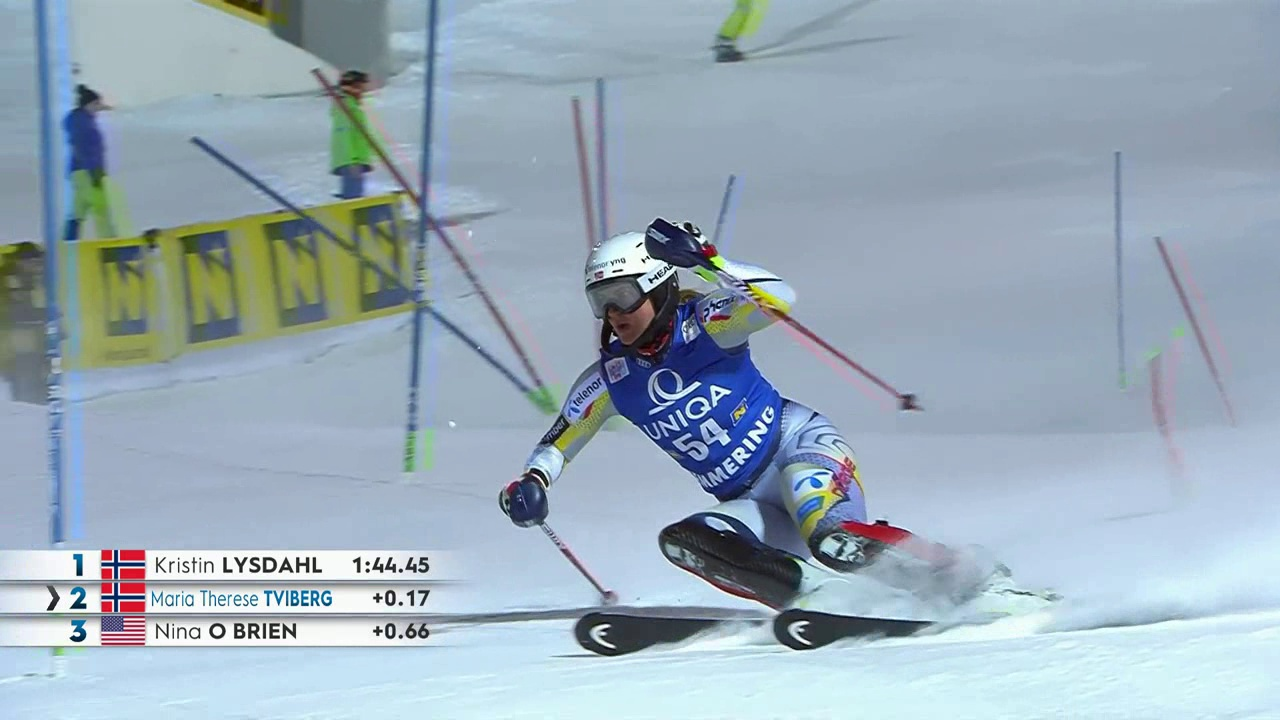uniqa: (643, 360, 731, 454)
